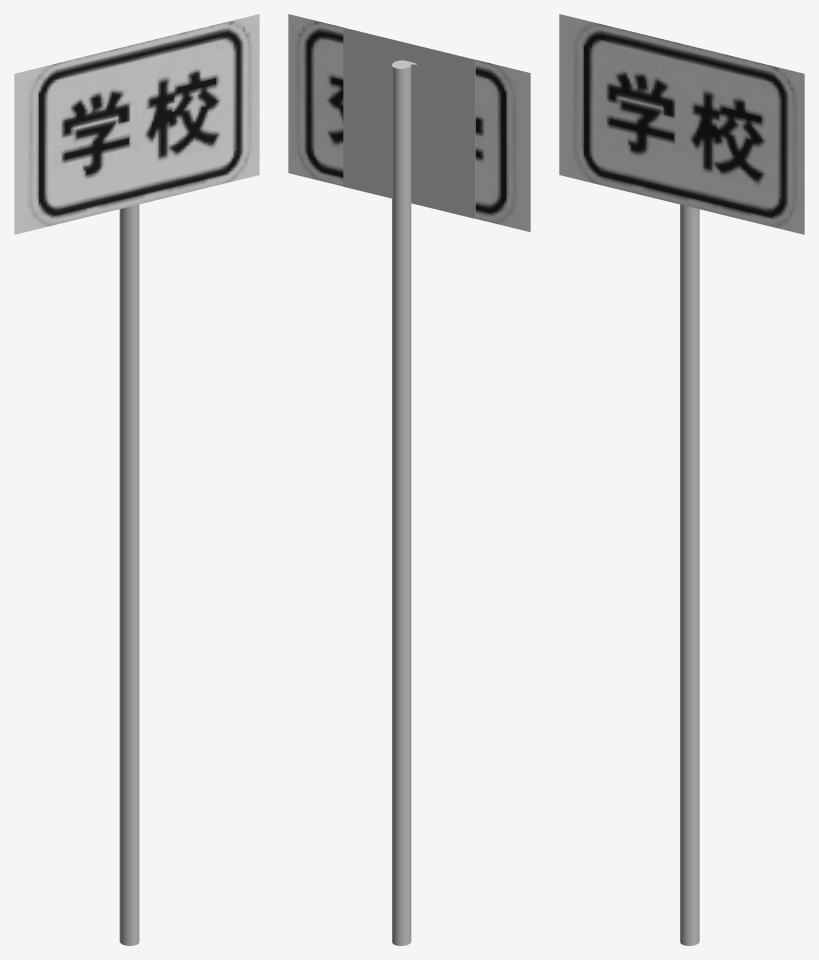
3 renders of one model, left to right at view 1: azimuth 30°, elevation 25°; view 2: azimuth 150°, elevation 25°; view 3: azimuth 330°, elevation 25°, orthographic.
Visible parts, largest first — view 1: SM_zhishipai_05; view 2: SM_zhishipai_05; view 3: SM_zhishipai_05.
Boxes of the visible parts, bbox=[...] form: SM_zhishipai_05: bbox=[14, 14, 259, 945]; SM_zhishipai_05: bbox=[288, 14, 530, 945]; SM_zhishipai_05: bbox=[559, 14, 804, 945].
Size of the model in its own units: 4.69 by 16.52 by 0.4286.
2 materials, 1 textured.
